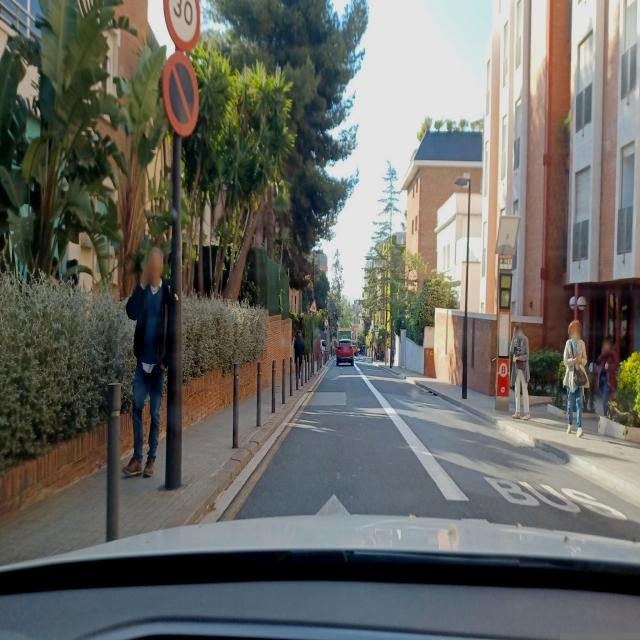car: (336, 339, 354, 366)
